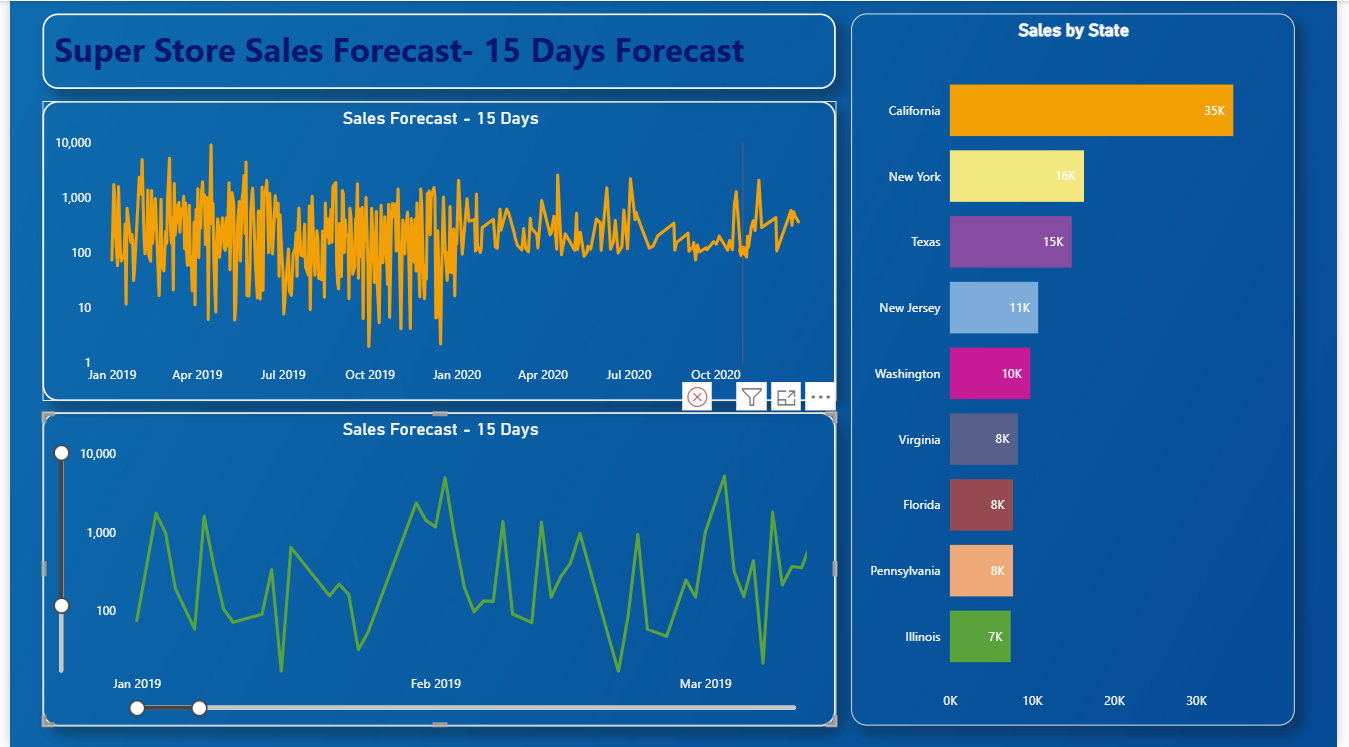

This screenshot's page, from the dashboard's own definition file:
{"tool":"powerbi","page":{"name":"Sales_Forecast","canvas":[1280,720],"ordinal":1},"visuals":[{"type":"lineChart","title":"Sales Forecast - 15 Days","fields":{"Y":["Sum(SuperStore Sales DataSet xlsx - Sheet1.Sales)"],"Category":["SuperStore Sales DataSet xlsx - Sheet1.Order Date"]},"box":[31.6,96.1,765.7,289.5],"z":0},{"type":"lineChart","title":"Sales Forecast - 15 Days","fields":{"Y":["Sum(SuperStore Sales DataSet xlsx - Sheet1.Sales)"],"Category":["SuperStore Sales DataSet xlsx - Sheet1.Order Date"]},"box":[31.6,396.6,765.7,303.3],"z":1000},{"type":"clusteredBarChart","title":"Sales by State","fields":{"Category":["SuperStore Sales DataSet xlsx - Sheet1.State"],"Y":["Sum(SuperStore Sales DataSet xlsx - Sheet1.Sales)"]},"box":[812.4,12.3,428.1,687.5],"z":2000},{"type":"textbox","box":[31.6,12.3,765.7,72.7],"z":3000}]}

Visuals, with their boxes in screenshot pixels (x1, y1, x2, y2), scaled from the page's 1280x720 canvas onto the 1349x747 screenshot:
"Sales Forecast - 15 Days" lineChart: 33/100/840/400
"Sales Forecast - 15 Days" lineChart: 33/411/840/726
"Sales by State" clusteredBarChart: 856/13/1307/726
textbox: 33/13/840/88
